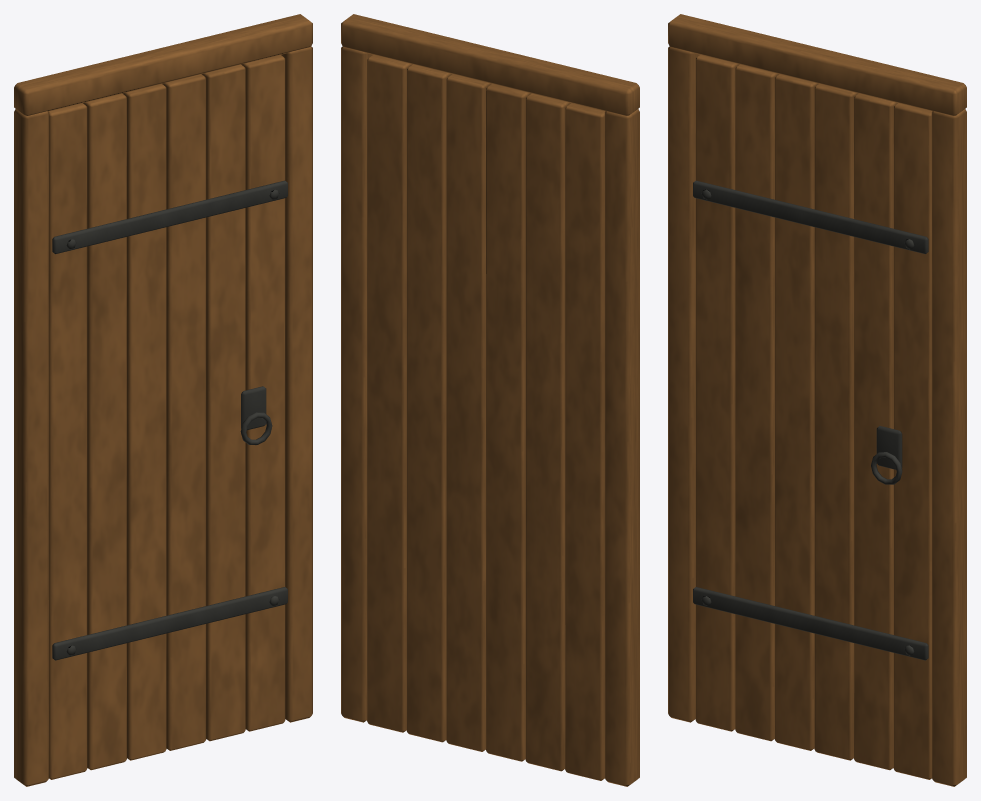
Rendered from Furn_Door.fbx.
3 views of the same model, side by side, from view 1: azimuth 30°, elevation 25°; view 2: azimuth 150°, elevation 25°; view 3: azimuth 330°, elevation 25° (orthographic).
Parts seen in each view (by area): view 1: Furn_Door_Mesh; view 2: Furn_Door_Mesh; view 3: Furn_Door_Mesh.
Part boxes in pixels (left/top/right/bottom): Furn_Door_Mesh: left=14, top=14, right=312, bottom=786; Furn_Door_Mesh: left=341, top=14, right=639, bottom=786; Furn_Door_Mesh: left=668, top=14, right=966, bottom=786.
Size of the model in its own units: 1 by 2.3 by 0.12.
